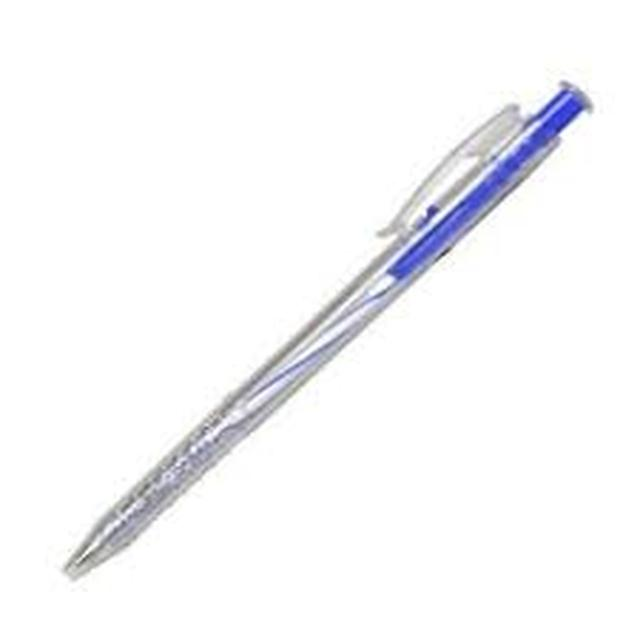pen: (37, 71, 603, 598)
